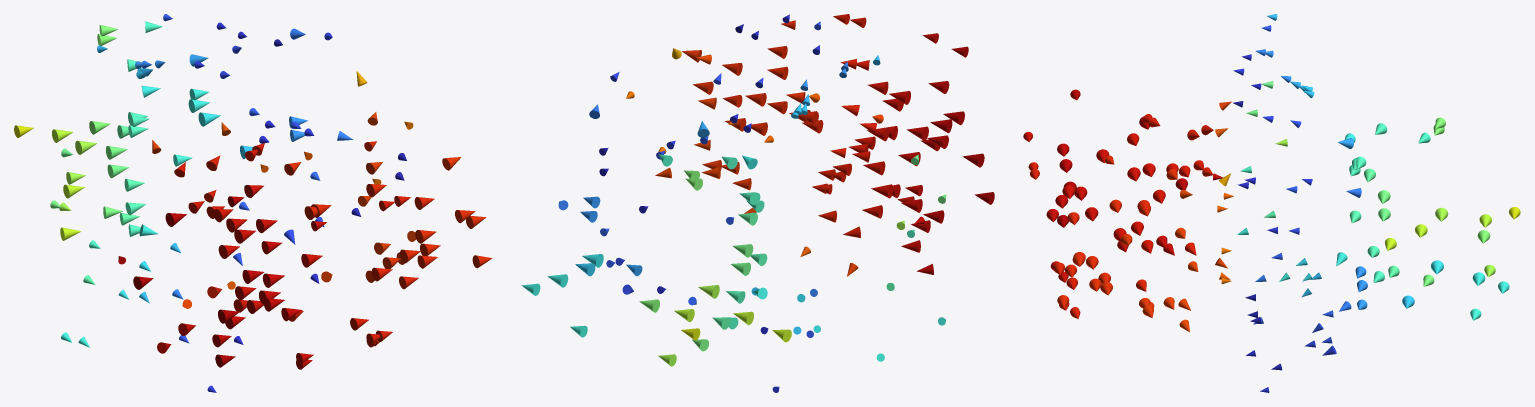
File: LineasCorrienteH2-O2_mh2-2.70_V-0.7.glb
The picture shows the model from 3 angles, left to right: view 1: azimuth 30°, elevation 25°; view 2: azimuth 150°, elevation 25°; view 3: azimuth 270°, elevation 25°; orthographic projection. The views are drawn at different scales.
Bounding box in the file's own units: 0.000919 × 0.000961 × 0.00124.
2 materials, 2 textured.
